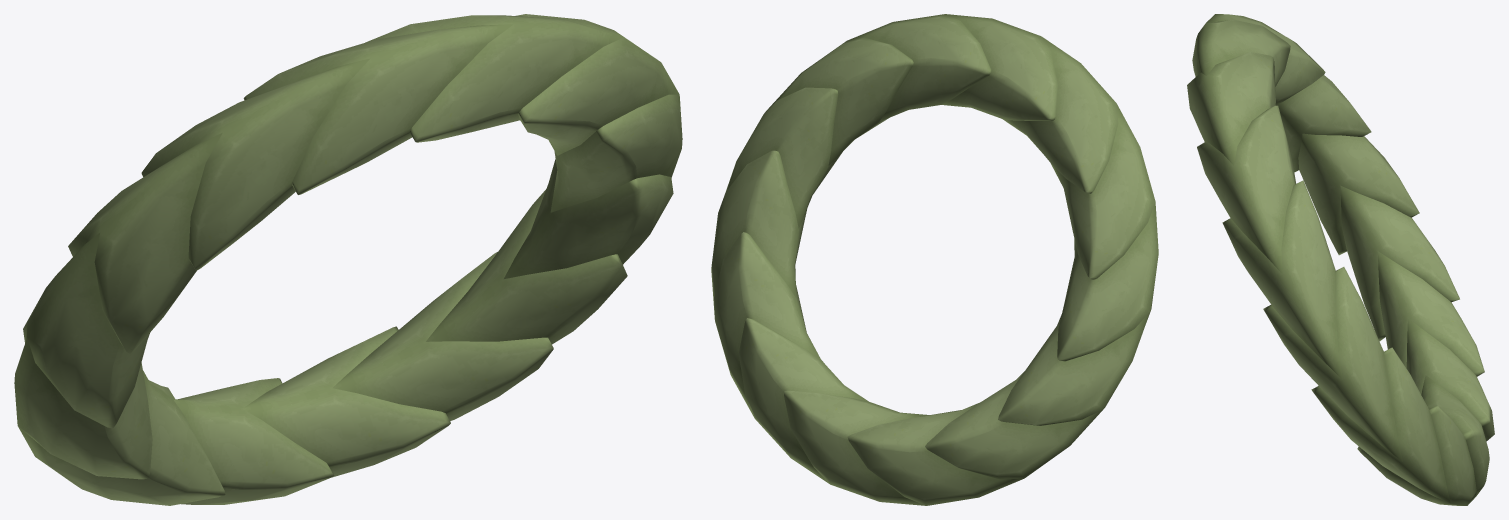
The model's file is lvlUpRing2_geo.fbx.
3 renders of one model, left to right at view 1: azimuth 30°, elevation 25°; view 2: azimuth 150°, elevation 25°; view 3: azimuth 270°, elevation 25°, orthographic. The views are drawn at different scales.
Parts seen in each view (by area): view 1: lvlUpRing2_geo; view 2: lvlUpRing2_geo; view 3: lvlUpRing2_geo.
Part boxes in pixels (x1,y1,x2,y2): lvlUpRing2_geo: [14, 14, 682, 505]; lvlUpRing2_geo: [711, 14, 1158, 505]; lvlUpRing2_geo: [1187, 14, 1494, 505].
Bounding box in the file's own units: 54.05 × 46.84 × 30.09.
1 material, 1 textured.
